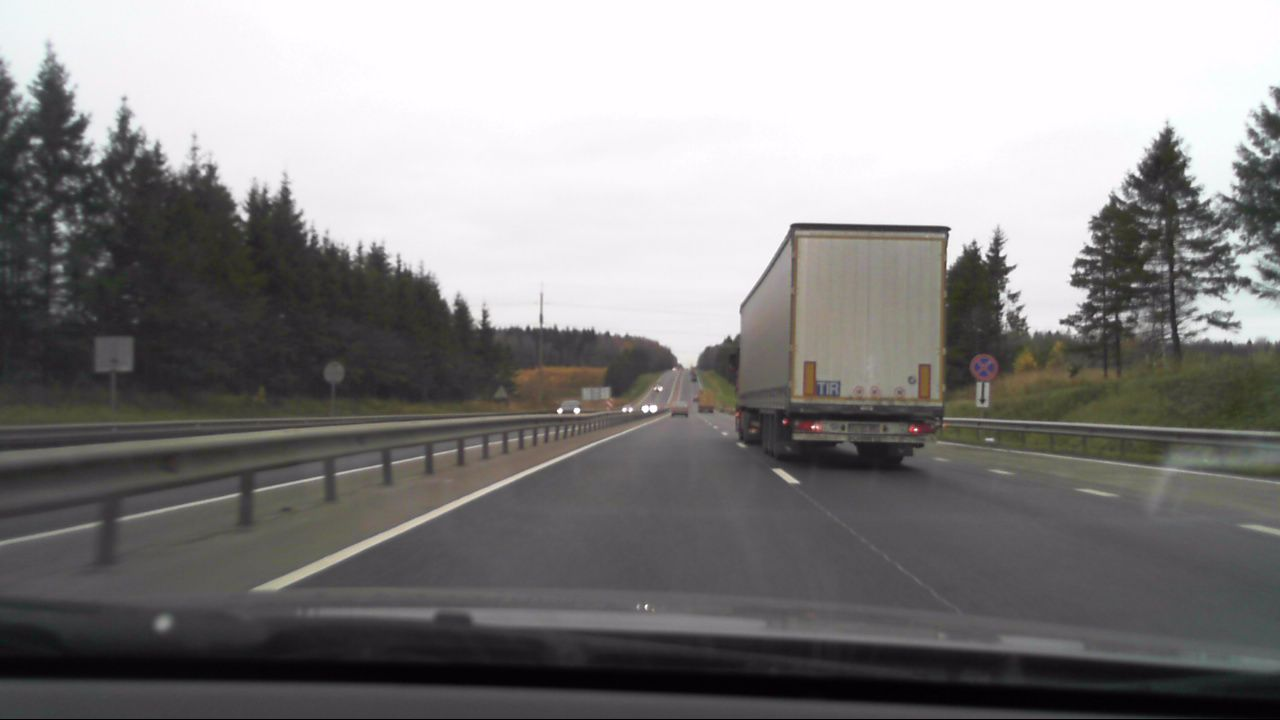No Parking: (966, 348, 999, 380)
